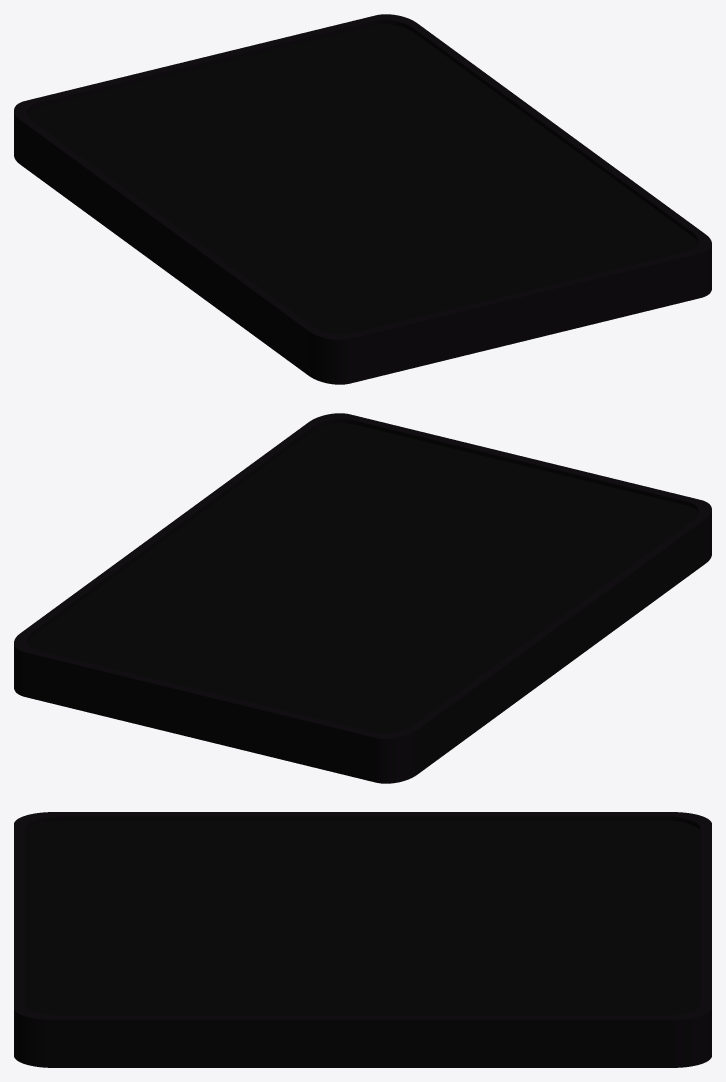
Rendered from score.glb.
3 renders of one model, top to bottom at view 1: azimuth 30°, elevation 25°; view 2: azimuth 150°, elevation 25°; view 3: azimuth 270°, elevation 25°, orthographic. The views are drawn at different scales.
Parts seen in each view (by area): view 1: Cube.001, Cube; view 2: Cube.001, Cube; view 3: Cube.001, Cube.
Part boxes in pixels (x1,y1,x2,y2): Cube.001: [27, 24, 698, 334]; Cube: [14, 14, 711, 384]; Cube.001: [27, 423, 698, 733]; Cube: [14, 413, 711, 783]; Cube.001: [25, 820, 700, 1015]; Cube: [14, 812, 711, 1067].
Size of the model in its own units: 1.57 by 0.1694 by 2.23.
Materials: 2 (1 with a texture image).
